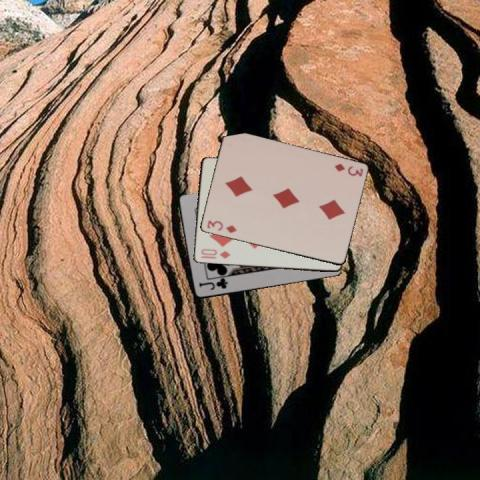10d: (198, 246, 231, 260)
3d: (204, 217, 238, 235), (331, 161, 364, 178)
Jc: (196, 277, 229, 291)
